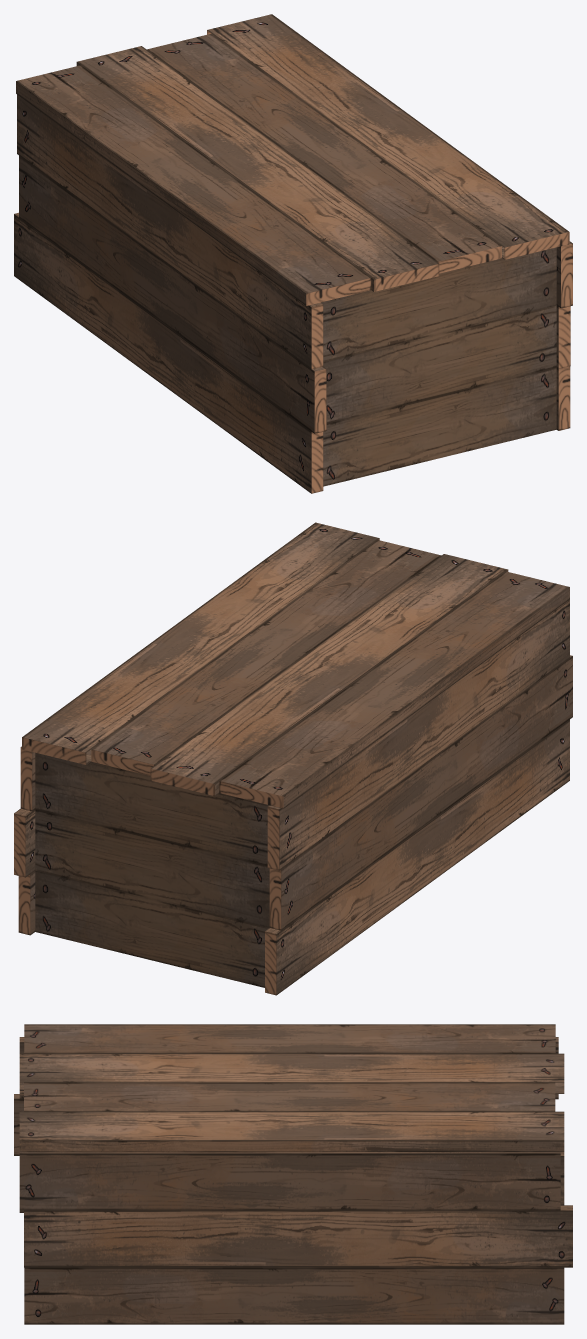
Rendered from compostBin01.FBX.
3 renders of one model, top to bottom at view 1: azimuth 30°, elevation 25°; view 2: azimuth 150°, elevation 25°; view 3: azimuth 270°, elevation 25°, orthographic. The views are drawn at different scales.
Visible parts, largest first — view 1: compostBin, compostBin_lid; view 2: compostBin, compostBin_lid; view 3: compostBin, compostBin_lid.
Boxes of the visible parts, left/top/right/bottom form: compostBin: left=14, top=94, right=572, bottom=493; compostBin_lid: left=16, top=14, right=569, bottom=305; compostBin: left=14, top=599, right=572, bottom=995; compostBin_lid: left=22, top=522, right=569, bottom=808; compostBin: left=14, top=1037, right=572, bottom=1324; compostBin_lid: left=19, top=1024, right=564, bottom=1152.
Bounding box in the file's own units: 111 × 80 × 223.
